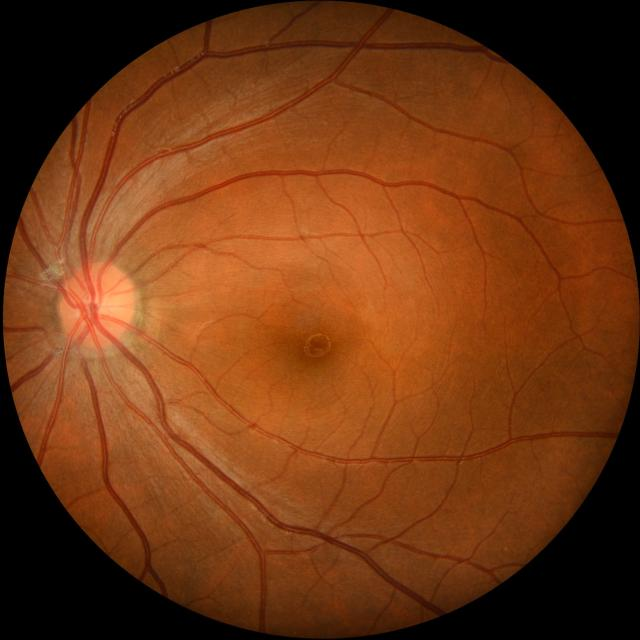OC: (86, 295, 111, 325)
OD: (57, 261, 136, 347)
